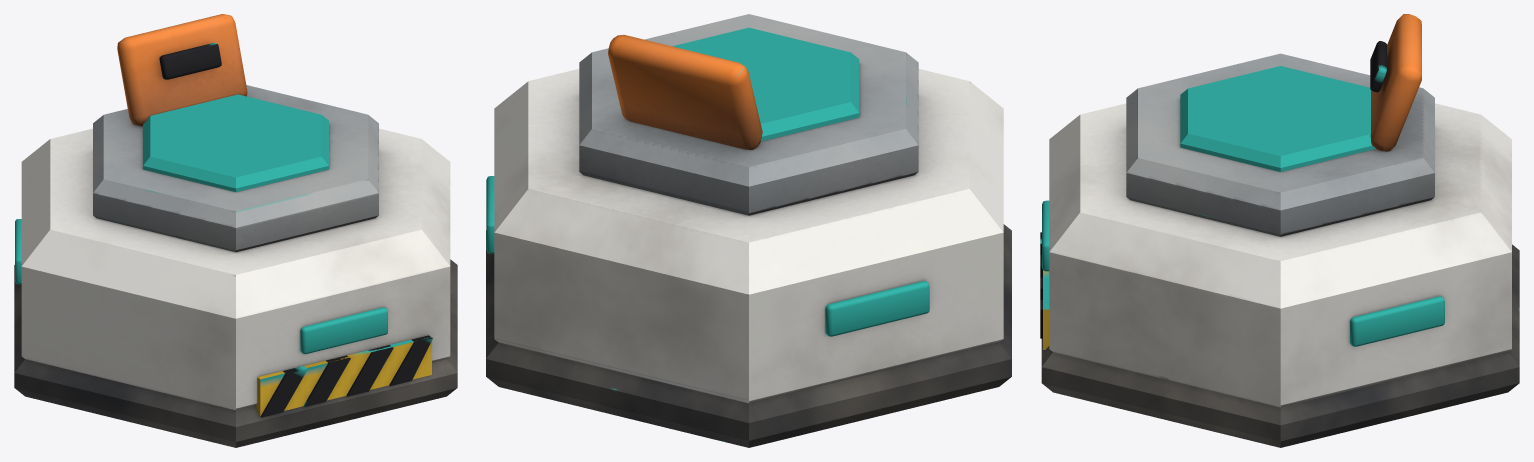
The model's file is emp_charge.fbx.
3 views of the same model, side by side, from view 1: azimuth 30°, elevation 25°; view 2: azimuth 150°, elevation 25°; view 3: azimuth 270°, elevation 25° (orthographic). The views are drawn at different scales.
Visible parts, largest first — view 1: Body, Glow; view 2: Body, Glow; view 3: Body, Glow.
Boxes of the visible parts, bbox=[...] form: Body: bbox=[14, 14, 457, 447]; Glow: bbox=[15, 94, 387, 354]; Body: bbox=[486, 14, 1011, 447]; Glow: bbox=[486, 27, 929, 336]; Body: bbox=[1040, 14, 1519, 447]; Glow: bbox=[1042, 66, 1444, 346].
Bounding box in the file's own units: 0.62 × 0.3677 × 0.5385.
Materials: 1 (1 with a texture image).
